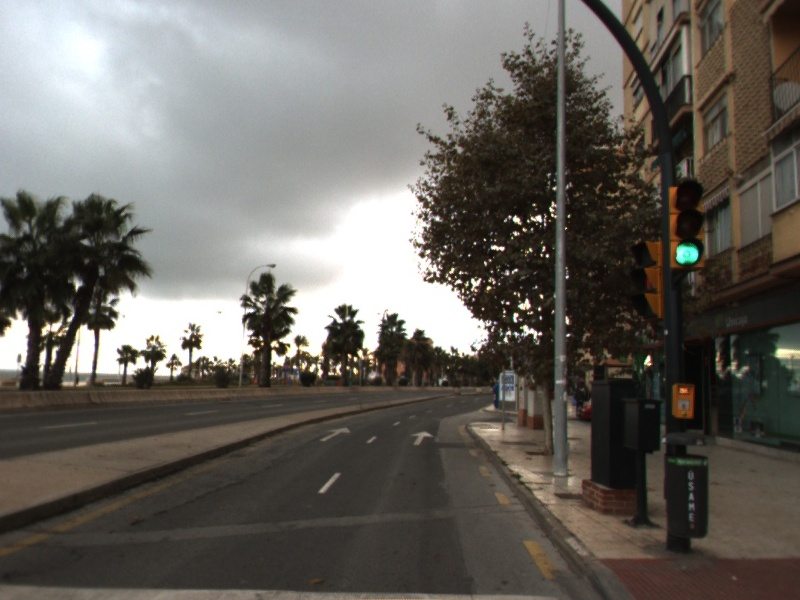STRAIGHT: (319, 426, 352, 442), (410, 429, 435, 446)
